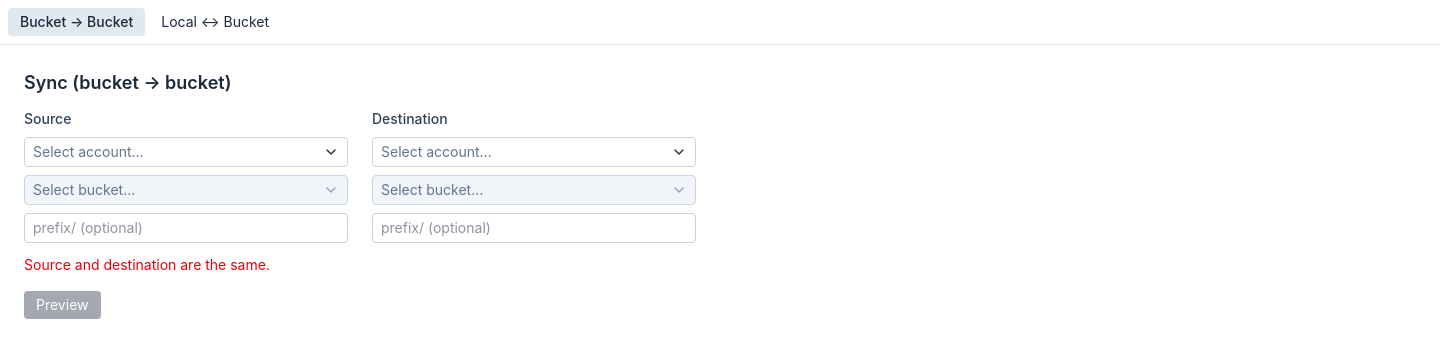
Test: SyncSection › shows bucket sync by default and toggles to local sync
Expected: the heading "Sync (bucket → bucket)" is shown, [24,72,231,93]
Click the button "Local ↔ Bucket". click: (215, 22)
box: [149,8,281,36]
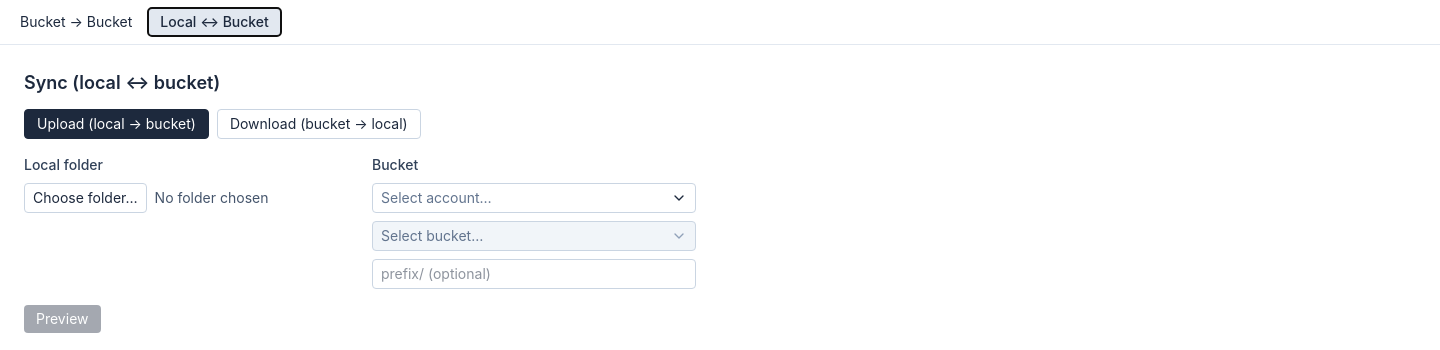
Now the heading "Sync (local ↔ bucket)" is shown, box [24,72,220,93]
